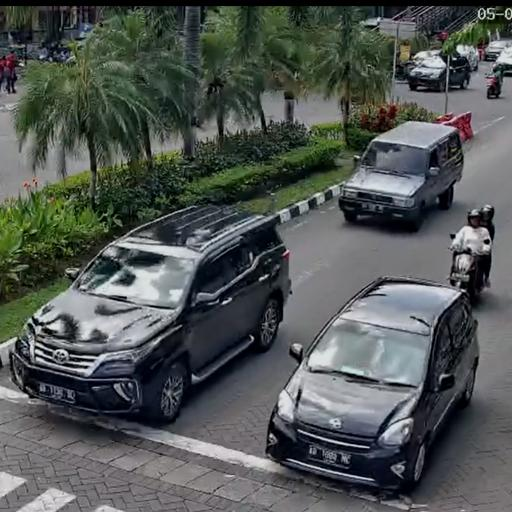mobil: (10, 204, 294, 416), (265, 278, 481, 496), (334, 120, 462, 233)
motor: (446, 226, 499, 308)
